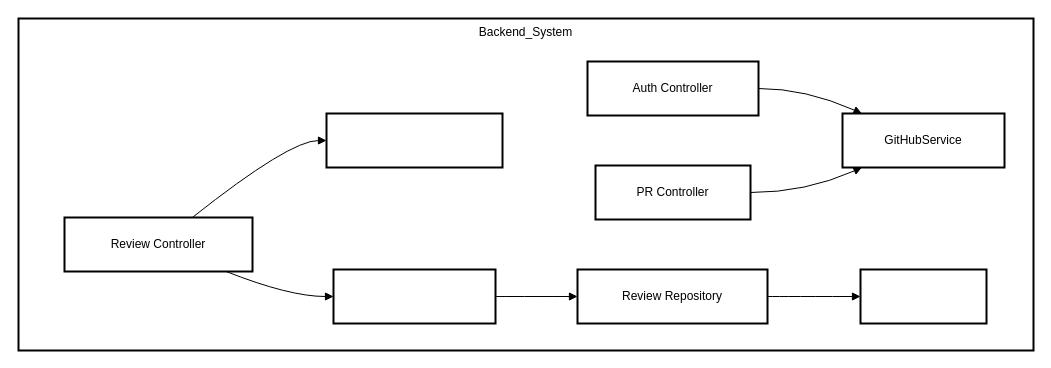
Some shapes in this 1051 by 368 pixel diagram are drawn without their labels. Here are the shapes that lost their labels. From the top down, the box of each, then its label:
(325, 112, 503, 168): AIReviewService
(332, 268, 496, 324): ReviewService
(859, 268, 987, 324): Database
